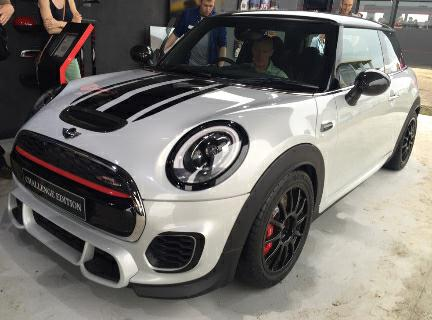MINI-JCW: (0, 17, 432, 299)
